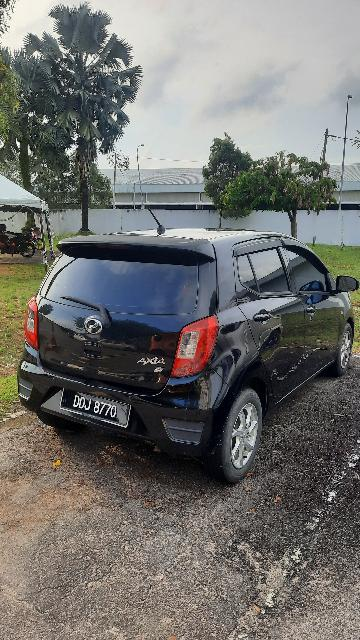License_Plate: (52, 373, 138, 438)
car: (21, 216, 360, 483)
